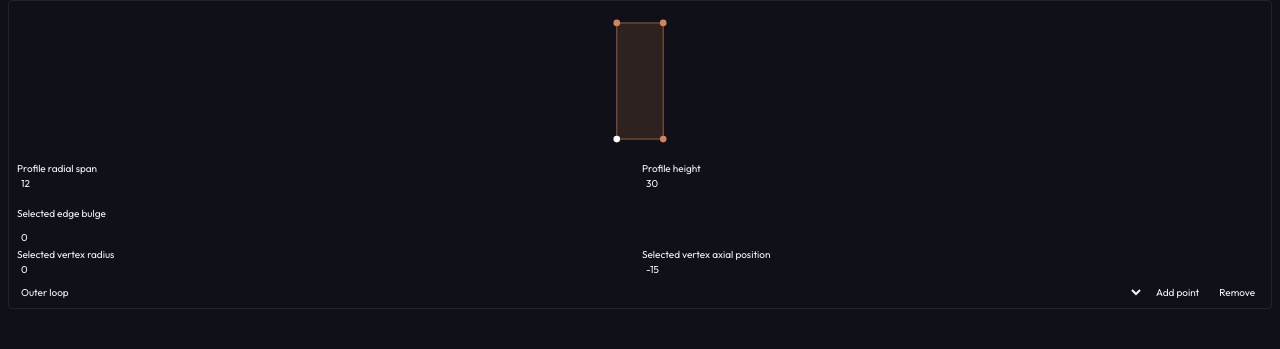
Test case: ProfileEditor › keeps invalid revolve edits out of the document
The image size is (1280, 349).
Replace the text in the number field labelled "Selected vertex radius" with "-1": (328, 270) [17,262,638,277]
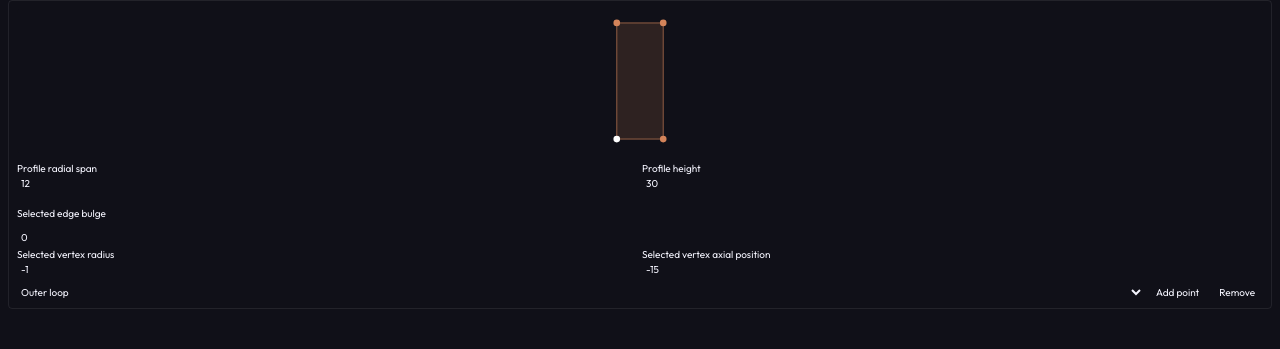
Leave the number field labelled "Selected vertex radius", box [17,262,638,277]
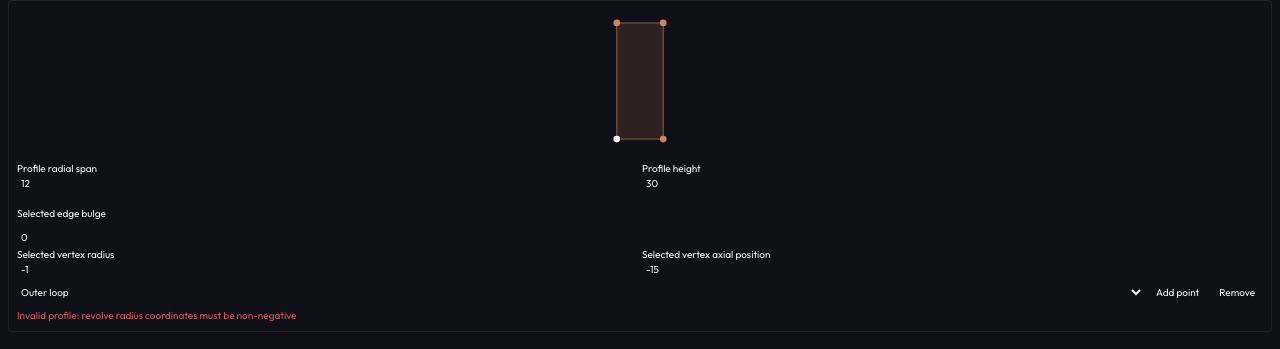
expect the message shows "radius coordinates must be non-negative": met, box [17,309,296,322]
